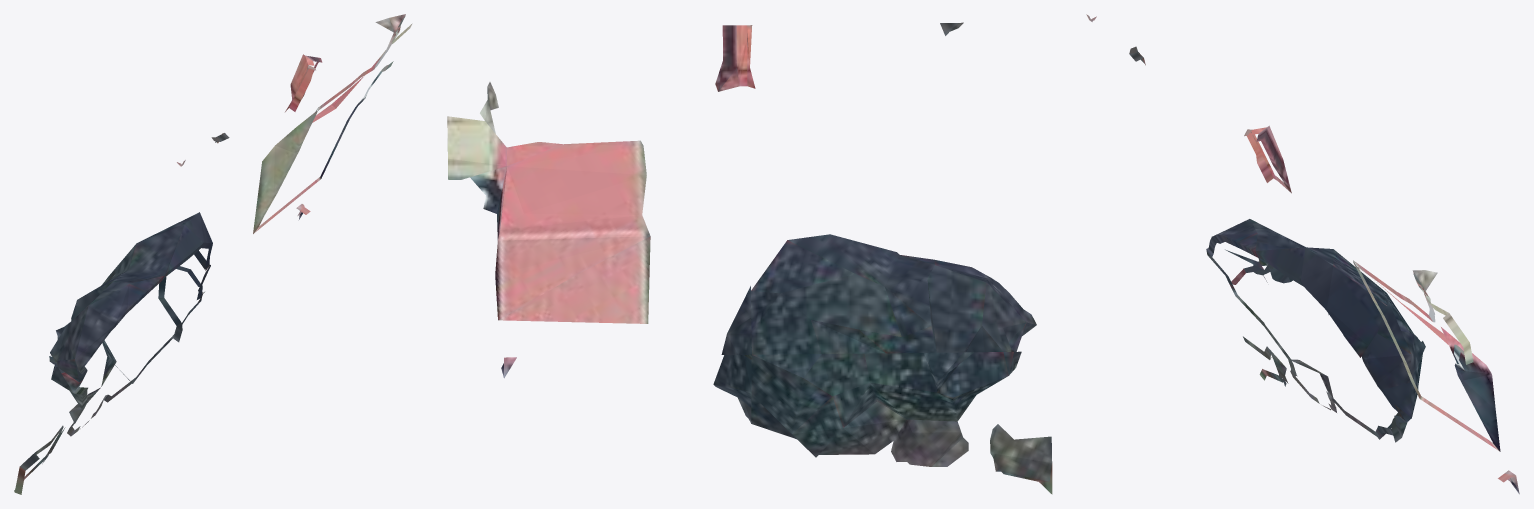
3 views of the same model, side by side, from view 1: azimuth 30°, elevation 25°; view 2: azimuth 150°, elevation 25°; view 3: azimuth 270°, elevation 25° (orthographic). The views are drawn at different scales.
Bounding box in the file's own units: 34.89 × 25.23 × 23.71.
1 material, 1 textured.
